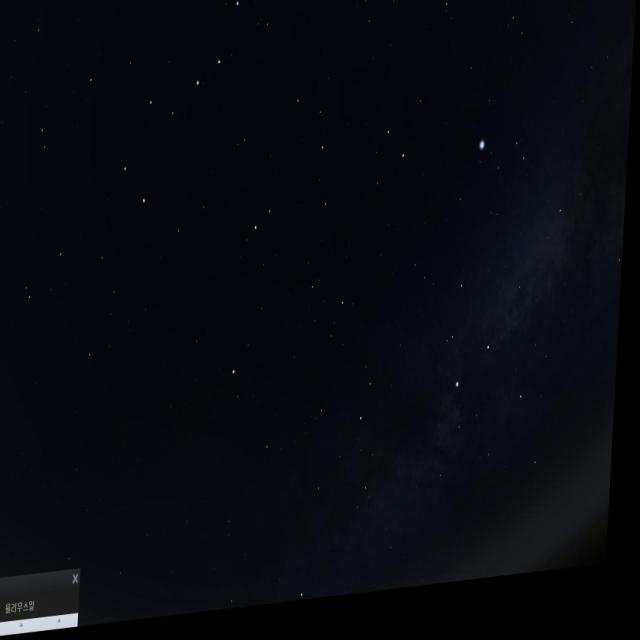cygnus: (449, 203, 576, 439)
lyra: (481, 132, 536, 199)
ursa_major: (115, 0, 247, 225)
